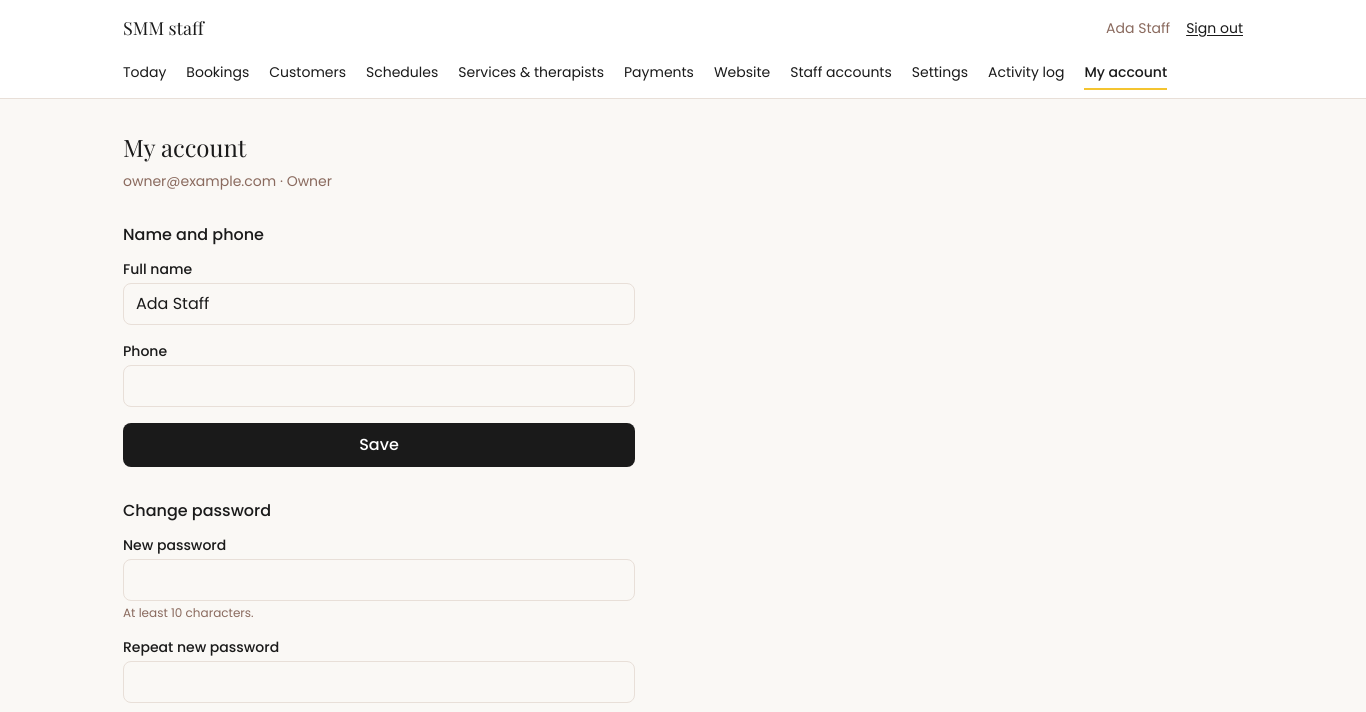
Scenario: my account › saves name and phone with the version that was shown, and explains a stale edit
Step 1. Replace the text in the field labelled "Full name" with "Ada Owner" → (379, 304), box x1=123 y1=283 x2=635 y2=325
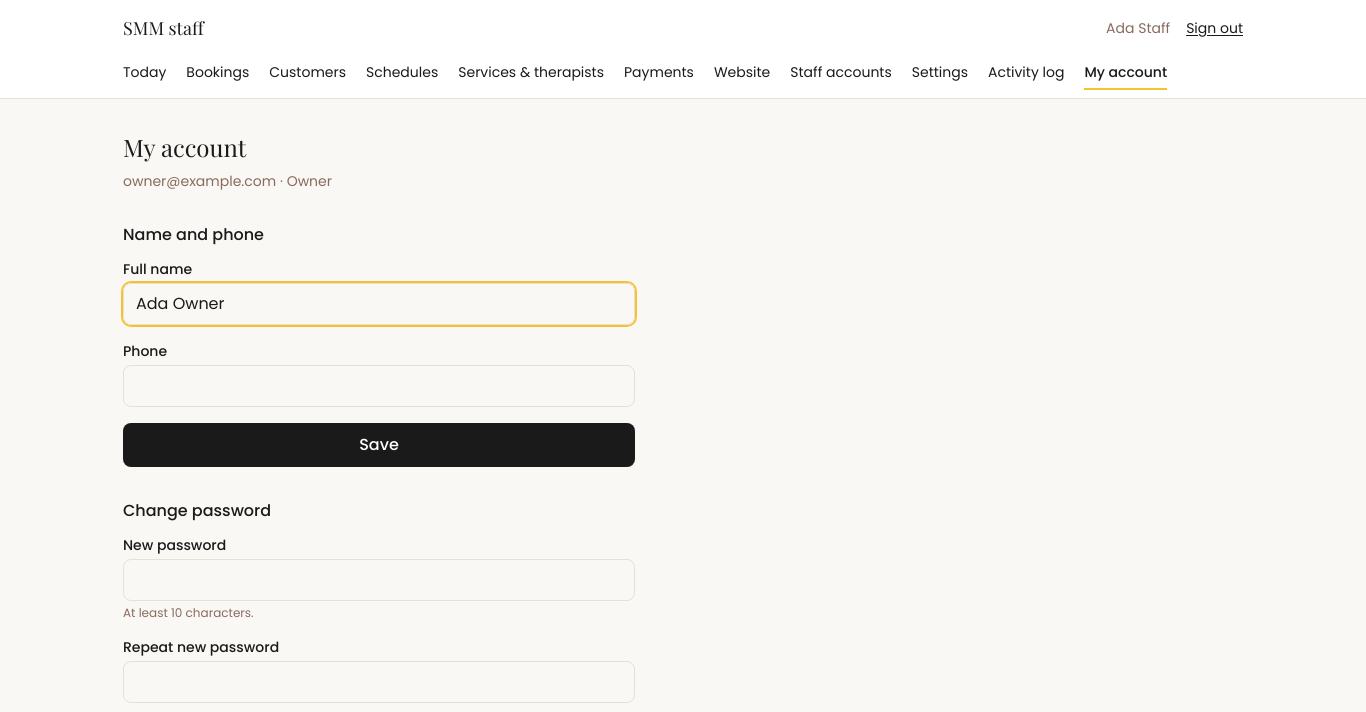
Step 2. Click the button "Save" → (379, 445), box x1=123 y1=423 x2=635 y2=467
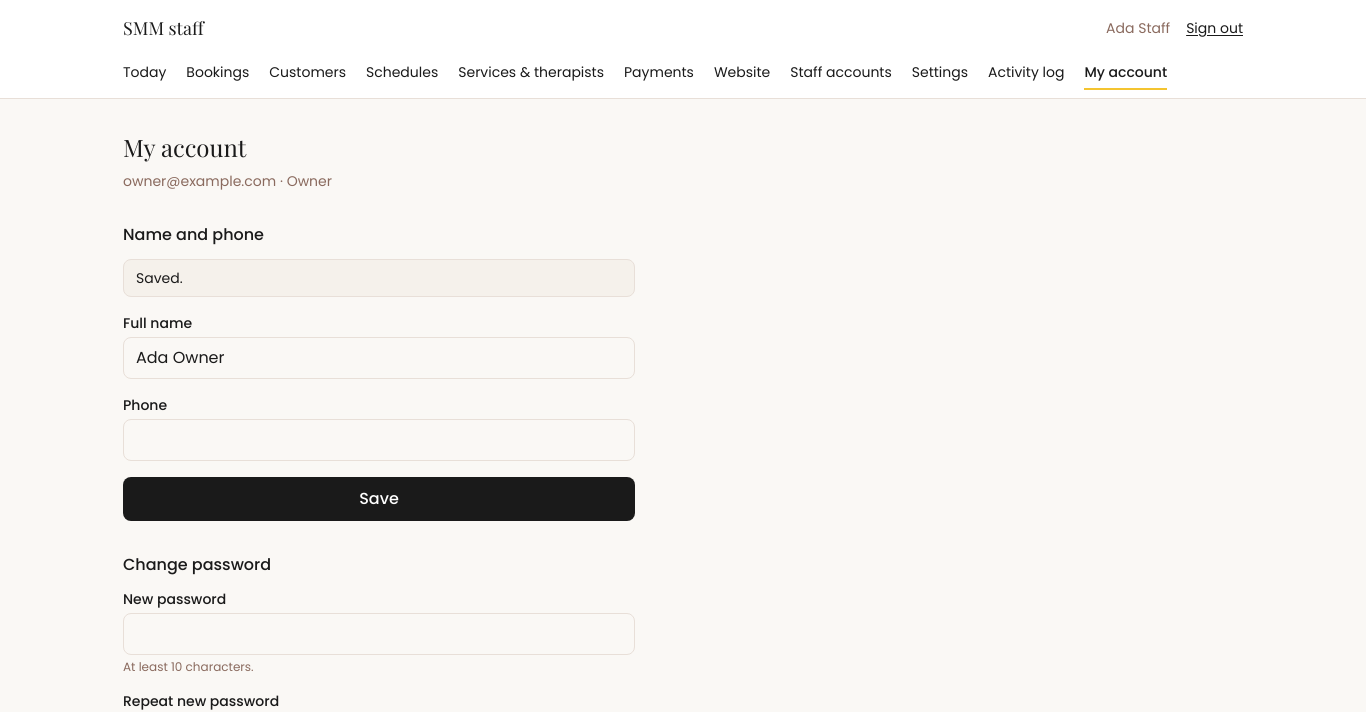
Step 3. Click the button "Save" → (379, 499), box x1=123 y1=477 x2=635 y2=521
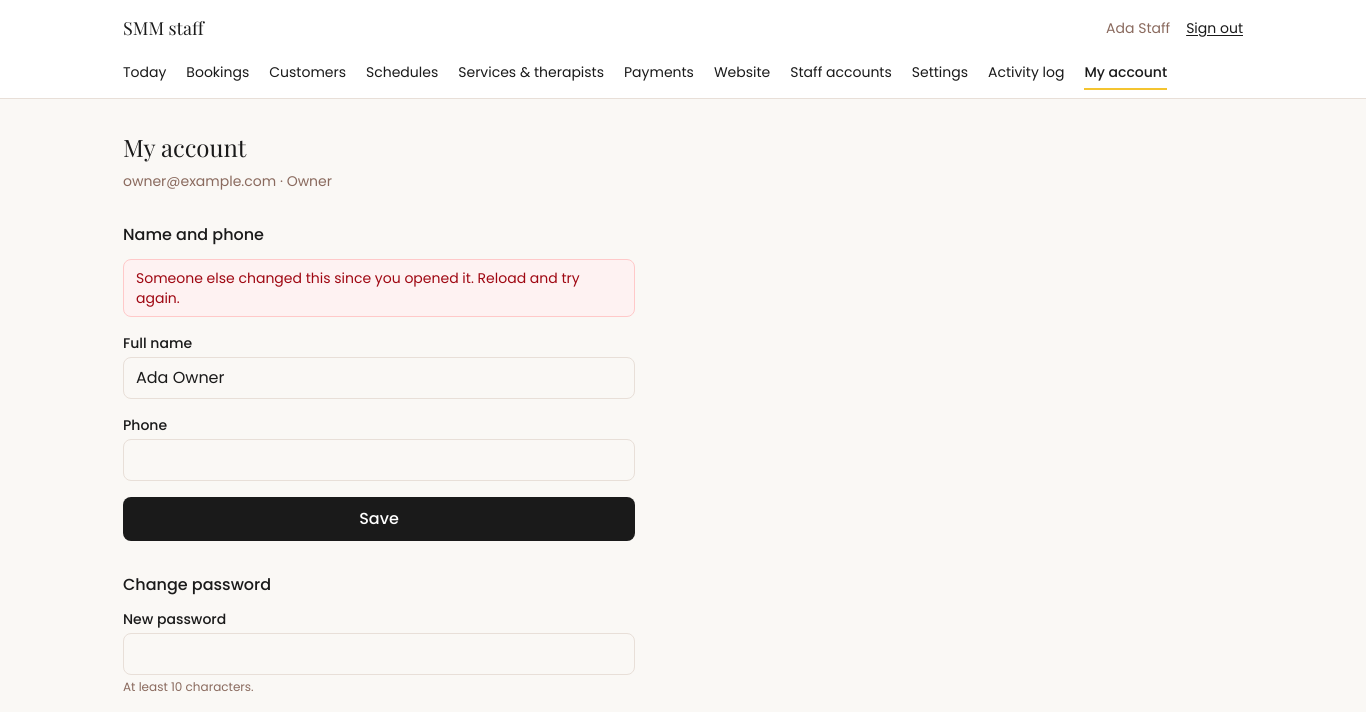
Now the message reads "Someone else changed this since you opened it. Reload and try again.", box x1=136 y1=268 x2=580 y2=308
